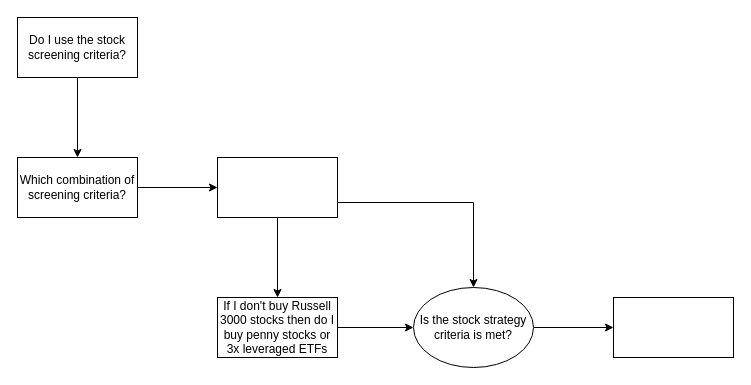
This 751x385 diagram has some shape labels left out. Here are the shapes that lost their labels. From the top down, the box of each, then its label:
(216, 156, 338, 218): Do I buy Russell 3000 stocks or non-Russell 3000?
(612, 296, 734, 358): Do I buy it?
